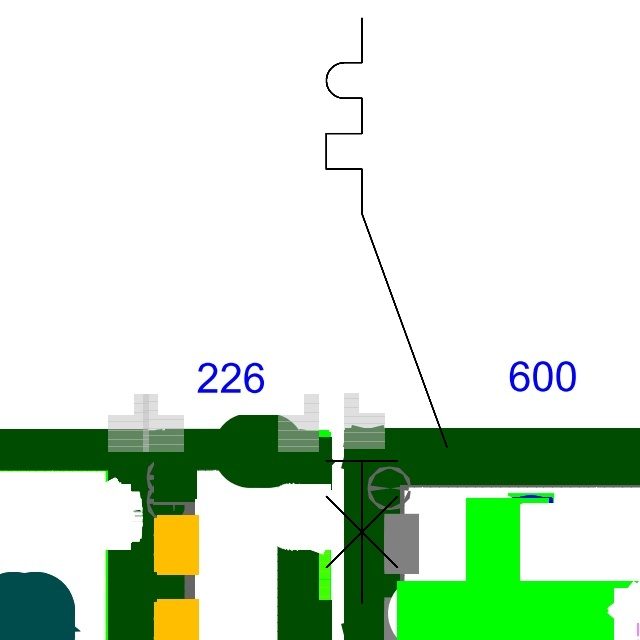interruptor_termomagnetico: (311, 3, 461, 618)
